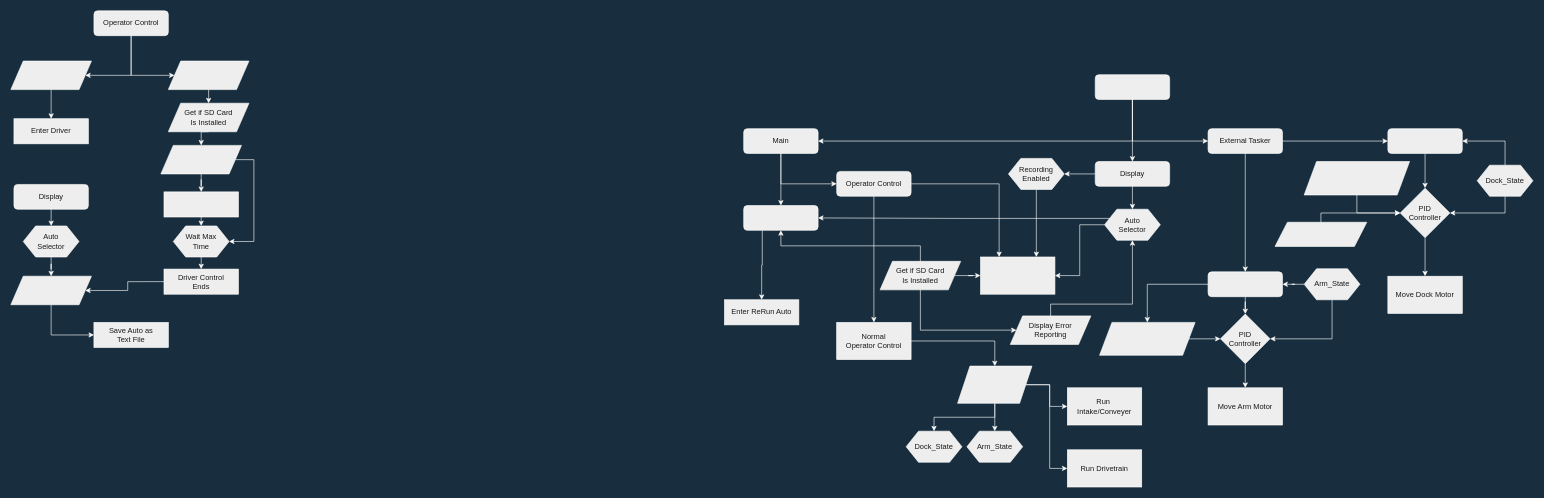
The diagram is 1544 pixels wide and 498 high, and some of its shapes have lost their labels. The shapes that lost their labels are listed below. From the top down, each one's box as (x1, y1, x2, y2) in pixels, then its label:
(10, 60, 91, 90): Wants To Drive
(168, 60, 249, 90): Wants To Record Auto
(1095, 74, 1170, 100): System Tasker
(160, 145, 241, 174): Gets Selected Auto Max Time
(1387, 128, 1462, 153): Dock/Mogo Lifter
(1304, 161, 1410, 195): Get Dock Position From Motor Encoder
(163, 191, 238, 217): Driver Control
(743, 205, 818, 230): Autonomous
(1274, 222, 1367, 246): Get if Dock Limit Switch Pressed
(10, 276, 91, 305): Gets Selected Auto
(980, 256, 1055, 294): Record {selected} Autonomous
(1207, 271, 1282, 297): Arm/Mogo Dragger
(1099, 322, 1195, 355): Get Arm Position From Potentiometer
(957, 365, 1032, 403): Get Controller Input
